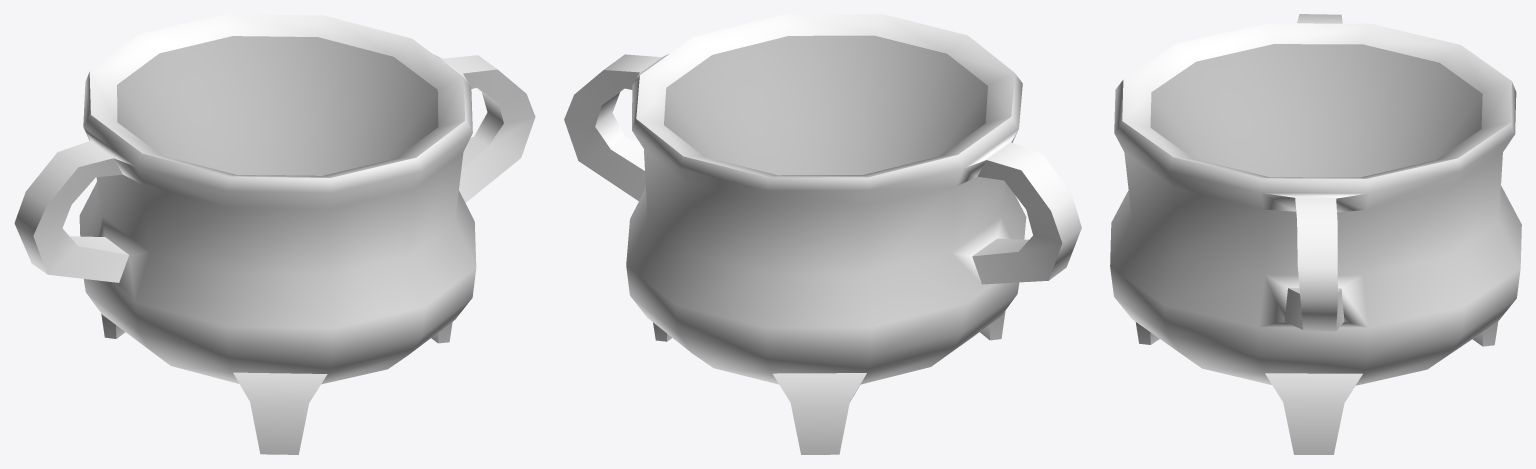
The model's file is PT_Pot_45.fbx.
The picture shows the model from 3 angles, left to right: view 1: azimuth 30°, elevation 25°; view 2: azimuth 150°, elevation 25°; view 3: azimuth 270°, elevation 25°; orthographic projection.
Parts seen in each view (by area): view 1: PT_Pot_45; view 2: PT_Pot_45; view 3: PT_Pot_45.
Boxes of the visible parts, x1,y1,x2,y2 form: PT_Pot_45: (14, 14, 535, 454); PT_Pot_45: (564, 14, 1081, 454); PT_Pot_45: (1110, 14, 1521, 454).
Size of the model in its own units: 52.53 by 27.8 by 37.62.
1 material, 1 textured.
